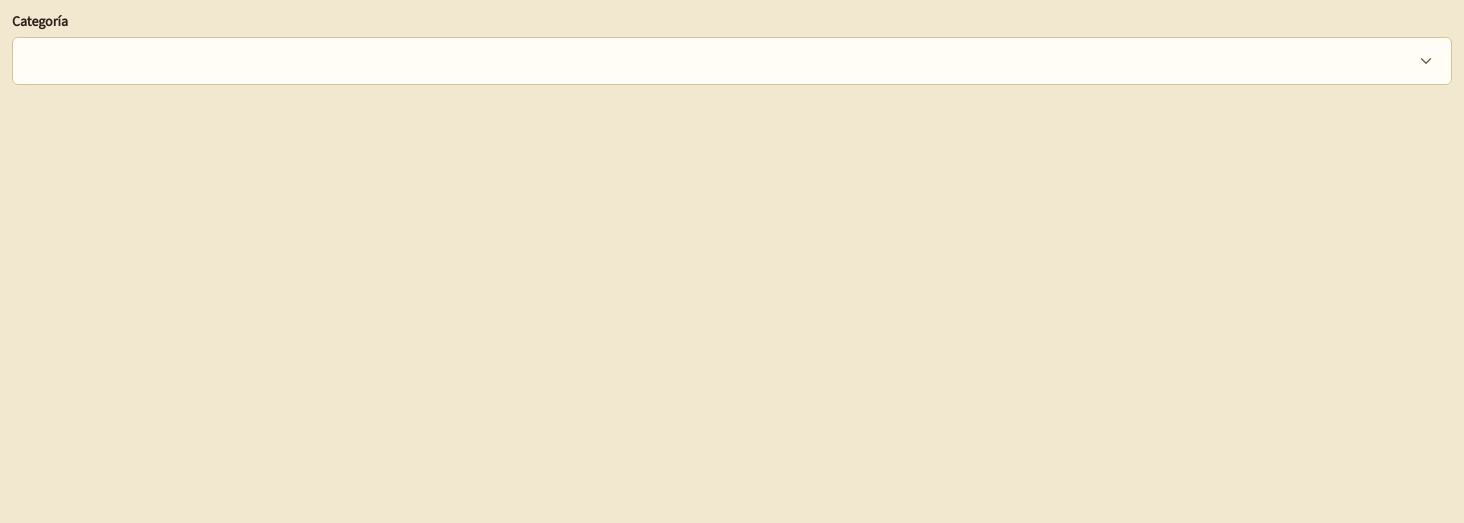
Test: SelectorConBuscador › coincidencia exacta: «"Alojamiento" ya existe», sin botón
The width and height of the screenshot is (1464, 523).
Click the dropdown named "Categoría" at (1426, 61), box [12,37,1452,85]
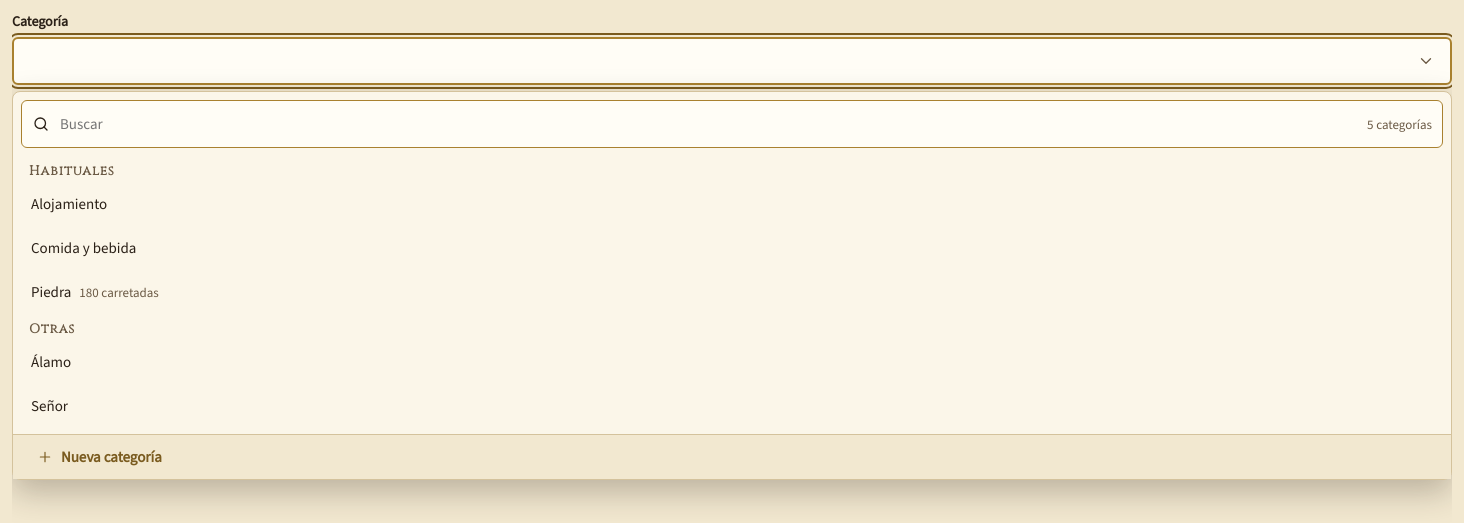
Type "Alojamiento" into the search field labelled "Buscar" at (709, 124), box [58,113,1359,135]
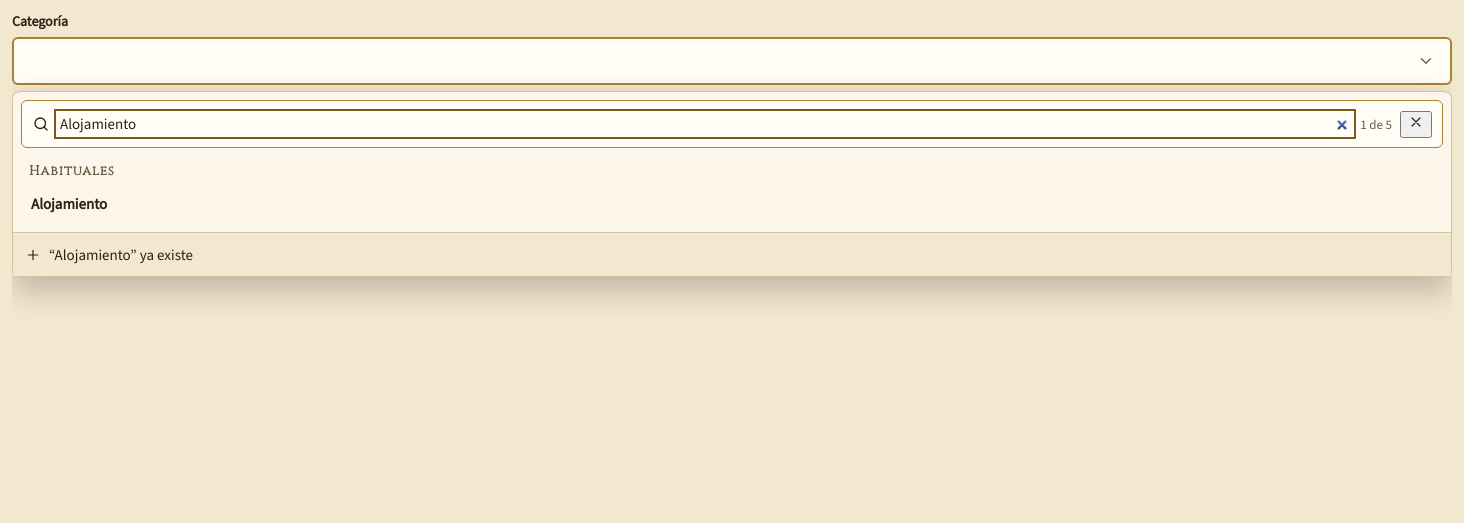
Expected: the text "“Alojamiento” ya existe" is shown, [49,244,193,264]
Expected: the button "Nueva categoría" is gone
